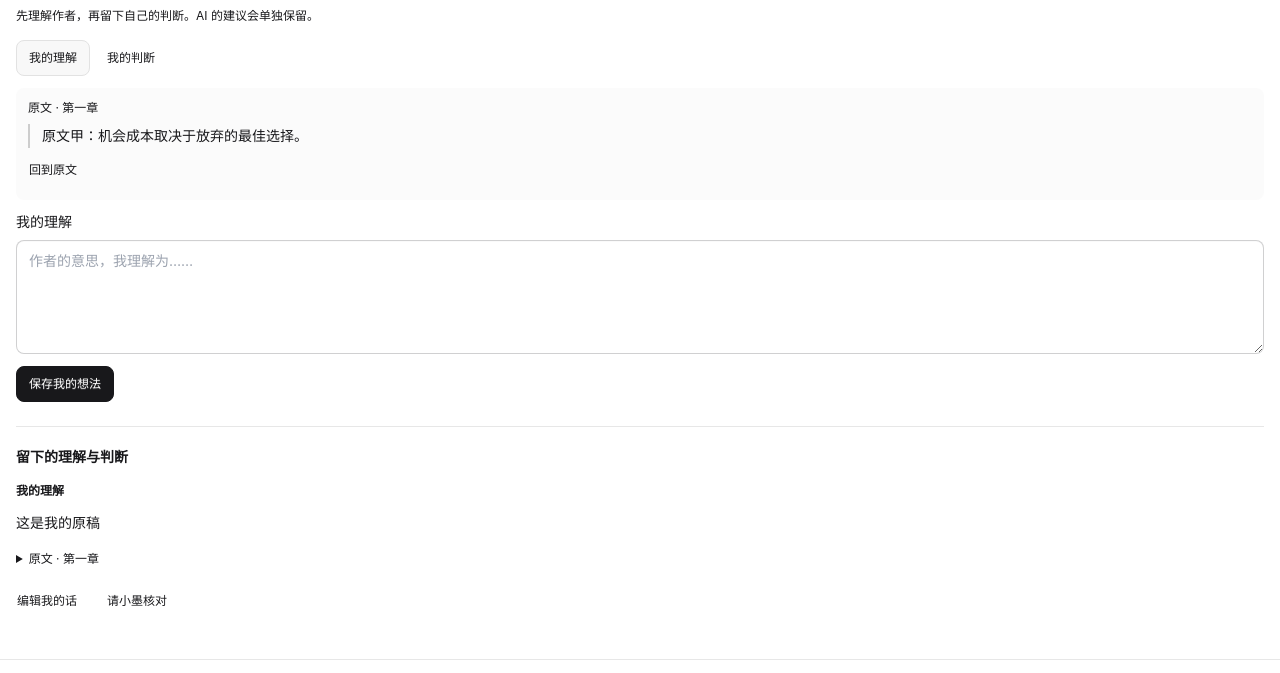
ReadingMethodPanel data boundaries › disables a repeated 小墨 request and preserves the reader’s words after a 小墨 failure
(page scrolled)
Click the button "请小墨核对". click: coordinates (137, 601)
box: 94,583 -> 180,619
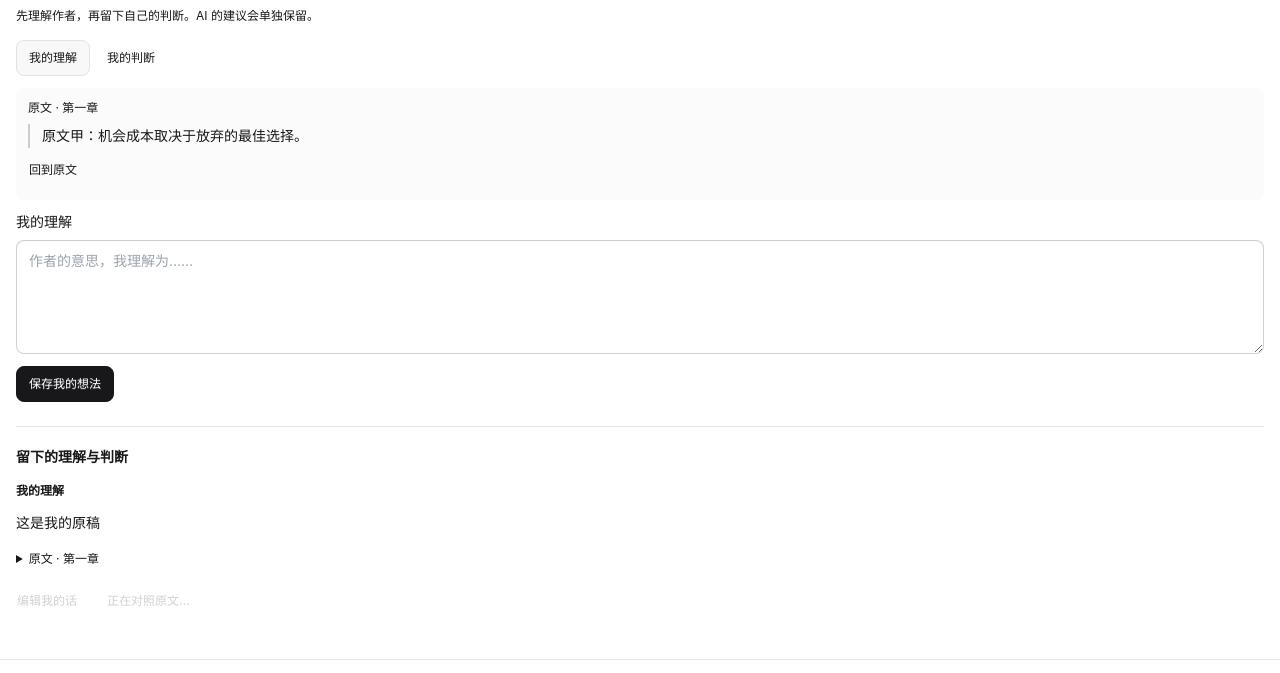
Result: the button "正在对照原文…" is disabled
Click the button "正在对照原文…". click: coordinates (148, 601)
box: 94,583 -> 203,619
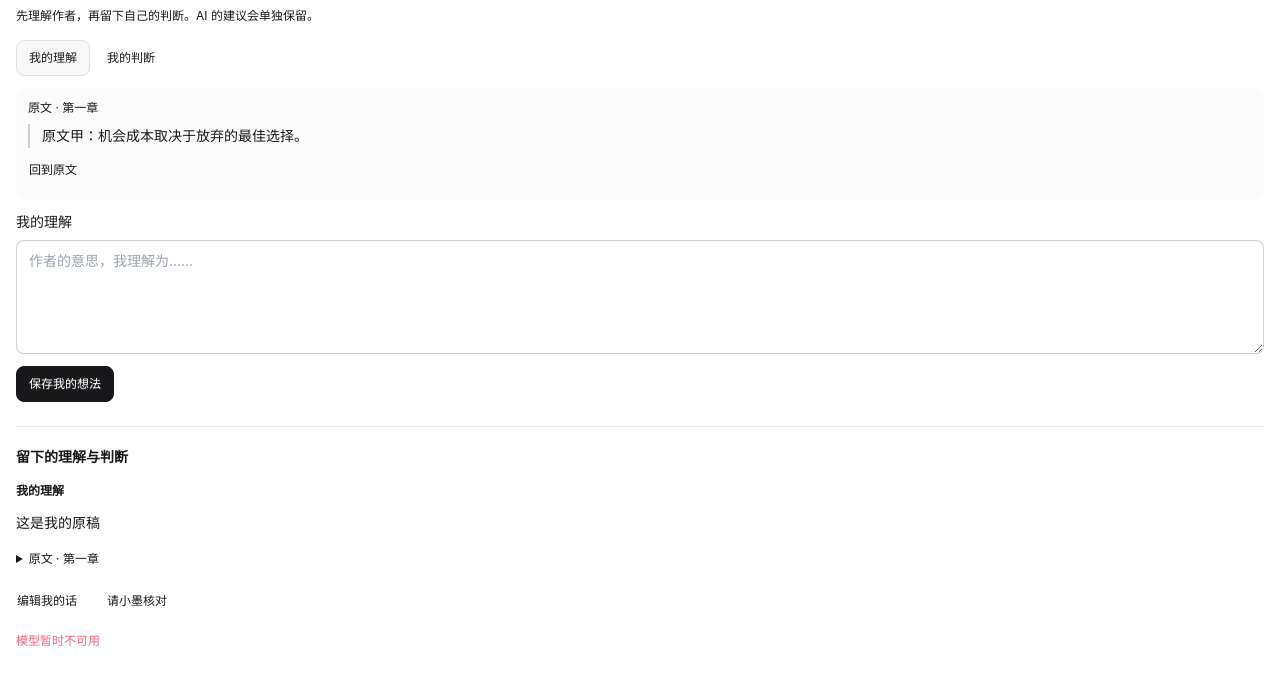
Expected: the text "这是我的原稿" is shown, 16,514 -> 100,531
Result: the text "模型暂时不可用" is shown at 16,633 -> 100,648
Result: the button "请小墨核对" is enabled at 94,583 -> 180,619
